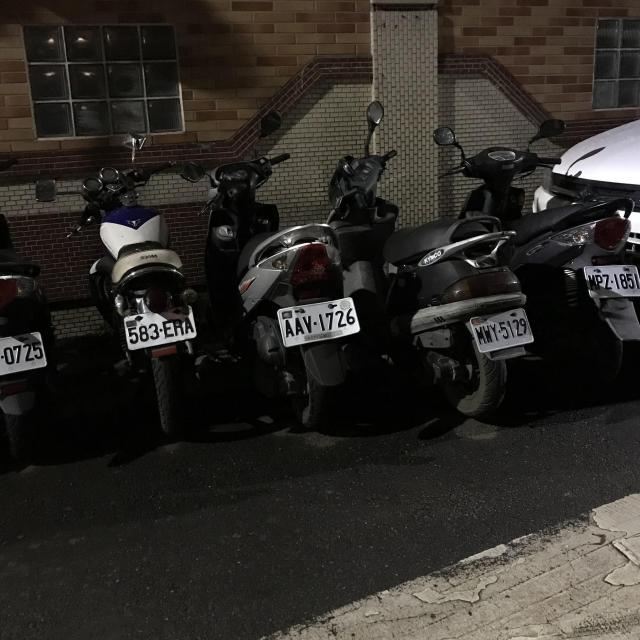W: (276, 297, 363, 347), (467, 302, 538, 354), (121, 305, 199, 351), (579, 258, 640, 302), (0, 329, 50, 379)
